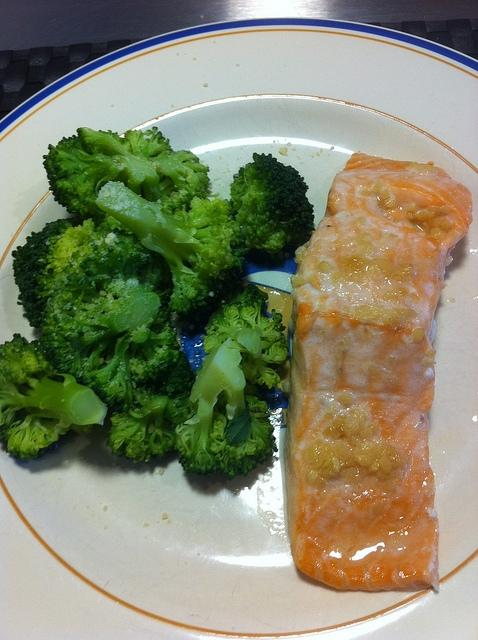broccoli: (11, 218, 184, 412), (94, 180, 244, 328), (41, 126, 210, 224), (174, 338, 278, 480), (0, 332, 108, 461), (204, 284, 290, 392), (230, 153, 316, 253), (107, 396, 175, 464), (140, 350, 195, 398)
